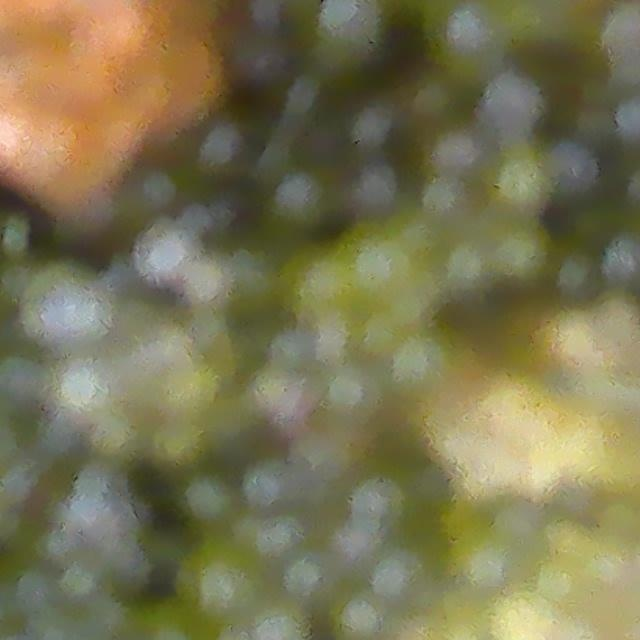SeaGrape: (481, 70, 545, 135), (269, 170, 333, 233), (250, 599, 311, 640), (0, 352, 44, 403)
